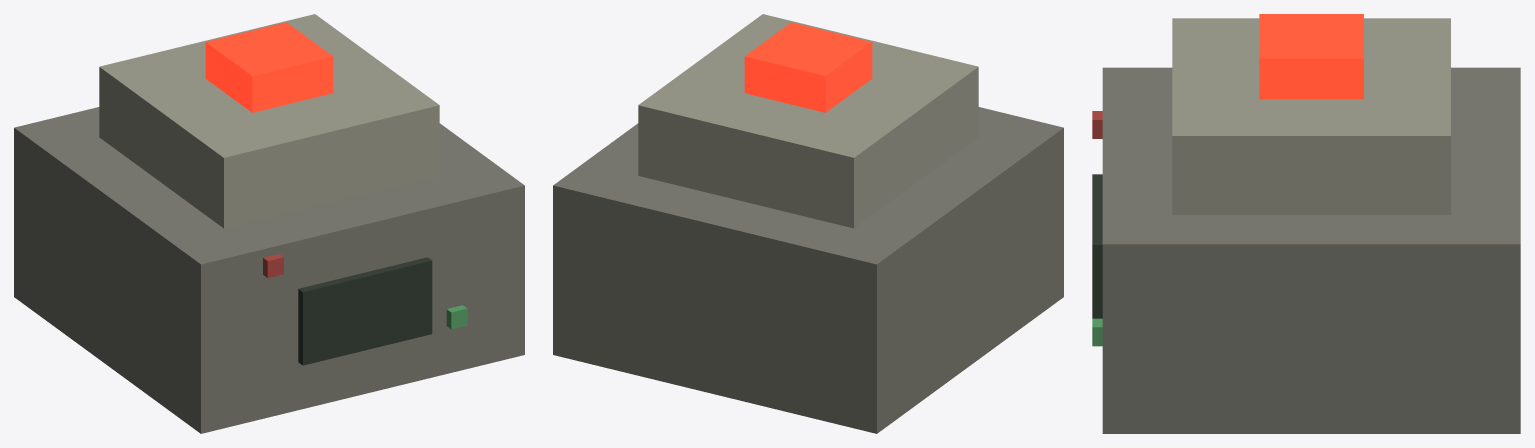
The model's file is bomb.glb.
3 renders of one model, left to right at view 1: azimuth 30°, elevation 25°; view 2: azimuth 150°, elevation 25°; view 3: azimuth 270°, elevation 25°, orthographic. The views are drawn at different scales.
Visible parts, largest first — view 1: bomb_root, light; view 2: bomb_root, light; view 3: bomb_root, light.
Boxes of the visible parts, x1,y1,x2,y2 form: bomb_root: (14,14,524,433); light: (205,22,333,112); bomb_root: (553,14,1063,433); light: (744,22,872,112); bomb_root: (1092,18,1520,433); light: (1259,14,1363,99).
Bounding box in the file's own units: 0.6 × 0.49 × 0.615.
